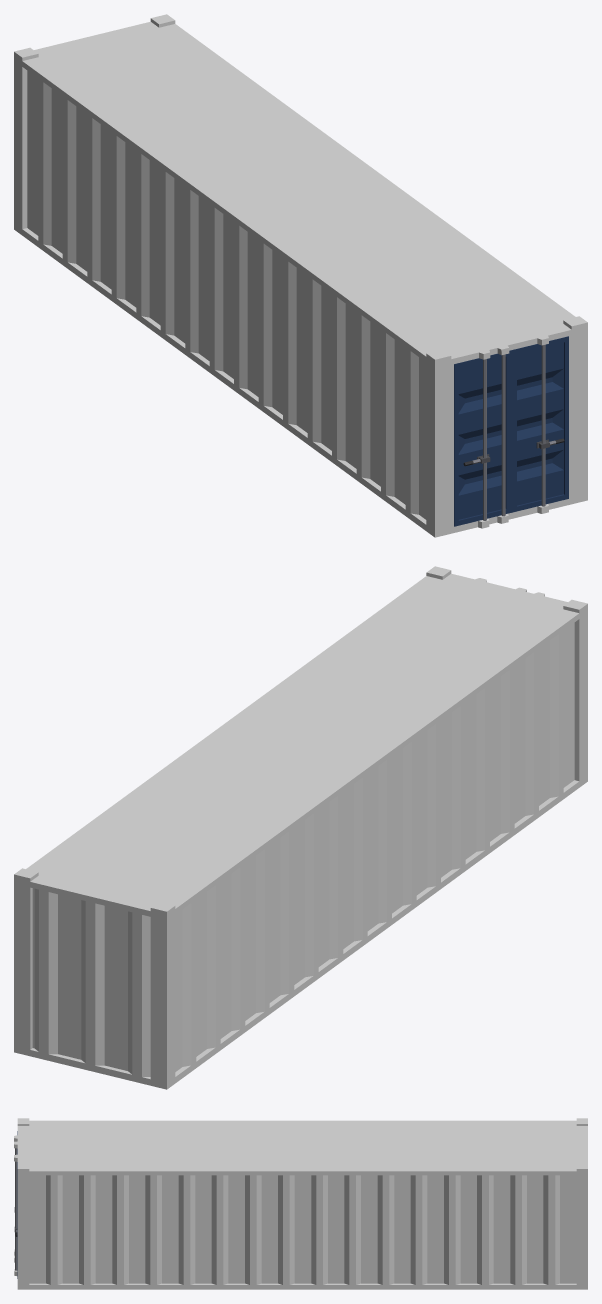
Rendered from Container_01_LOD0.fbx.
3 views of the same model, one above another, from view 1: azimuth 30°, elevation 25°; view 2: azimuth 150°, elevation 25°; view 3: azimuth 270°, elevation 25° (orthographic). The views are drawn at different scales.
Parts seen in each view (by area): view 1: Container_Complex_01, Container_Complex_01_Door_R, Container_Complex_01_Door_L; view 2: Container_Complex_01; view 3: Container_Complex_01, Container_Complex_01_Door_R.
Part boxes in pixels (box(x1,y1,x2,y2)): Container_Complex_01: box(14, 14, 587, 537); Container_Complex_01_Door_R: box(511, 336, 568, 512); Container_Complex_01_Door_L: box(454, 350, 511, 526); Container_Complex_01: box(14, 566, 587, 1089); Container_Complex_01: box(14, 1118, 587, 1289); Container_Complex_01_Door_R: box(14, 1150, 17, 1278).
Bounding box in the file's own units: 2.53 × 2.82 × 12.16.
